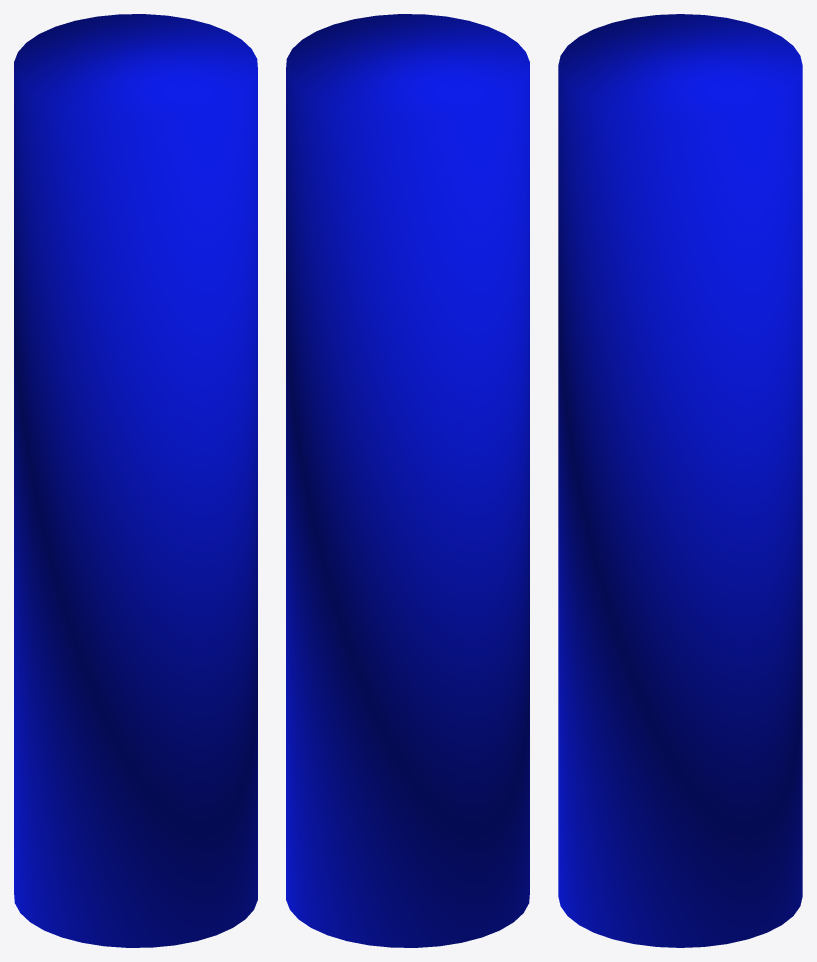
3 views of the same model, side by side, from view 1: azimuth 30°, elevation 25°; view 2: azimuth 150°, elevation 25°; view 3: azimuth 270°, elevation 25° (orthographic).
Parts seen in each view (by area): view 1: tmp_export_Cylinder.001; view 2: tmp_export_Cylinder.001; view 3: tmp_export_Cylinder.001.
Boxes of the visible parts, left/top/right/bottom form: tmp_export_Cylinder.001: left=14, top=14, right=257, bottom=947; tmp_export_Cylinder.001: left=286, top=14, right=529, bottom=947; tmp_export_Cylinder.001: left=558, top=14, right=802, bottom=947.
Size of the model in its own units: 0.4 by 0.4 by 1.5.
